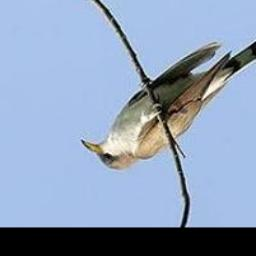Cuckoo: (83, 21, 256, 169)
